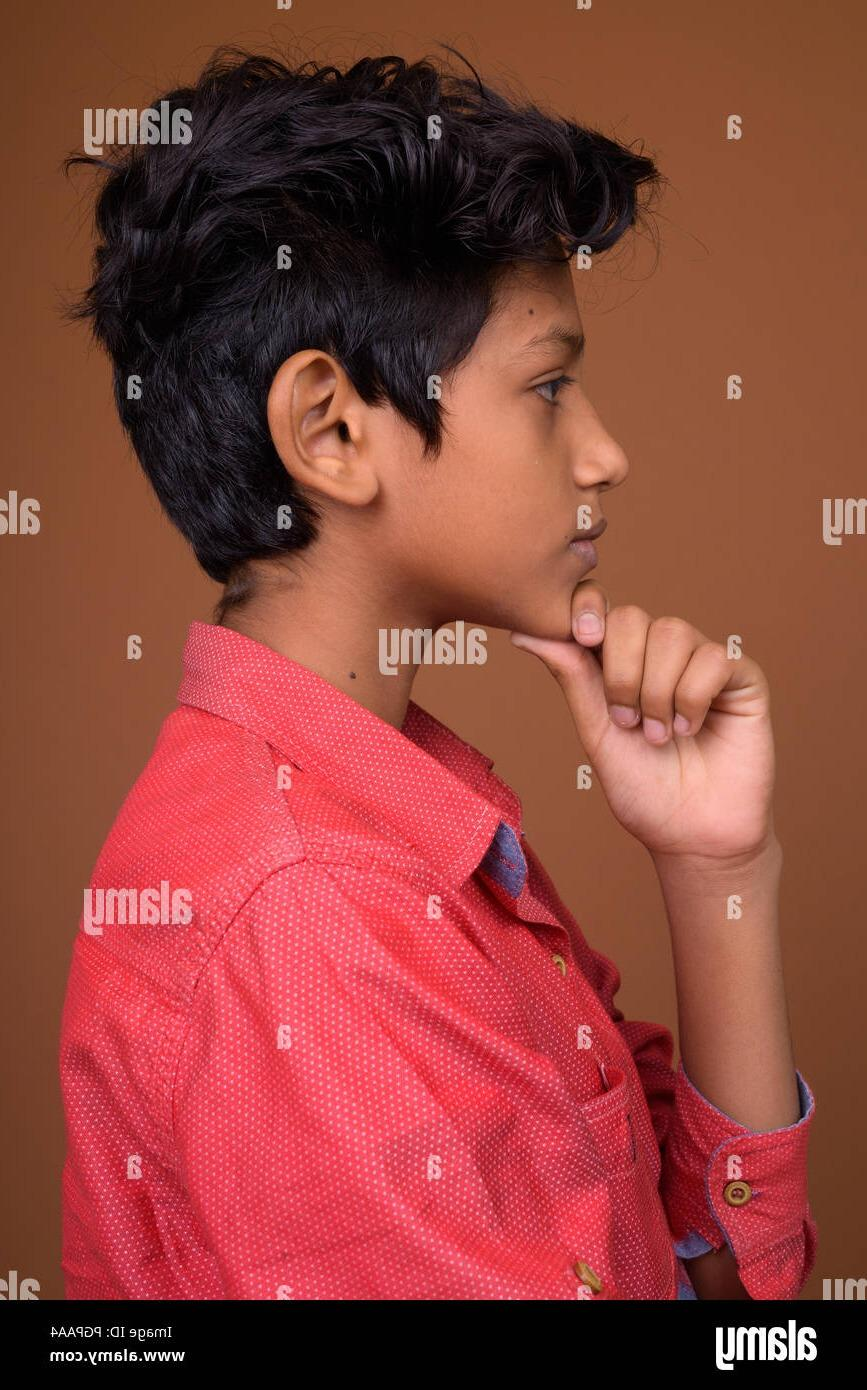Human: (37, 32, 812, 1273)
